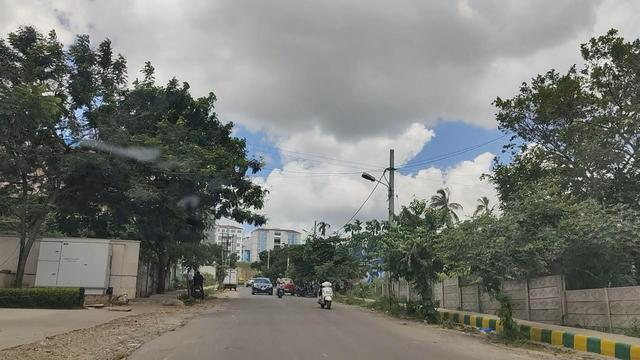RoadDamages: (0, 308, 220, 360)
